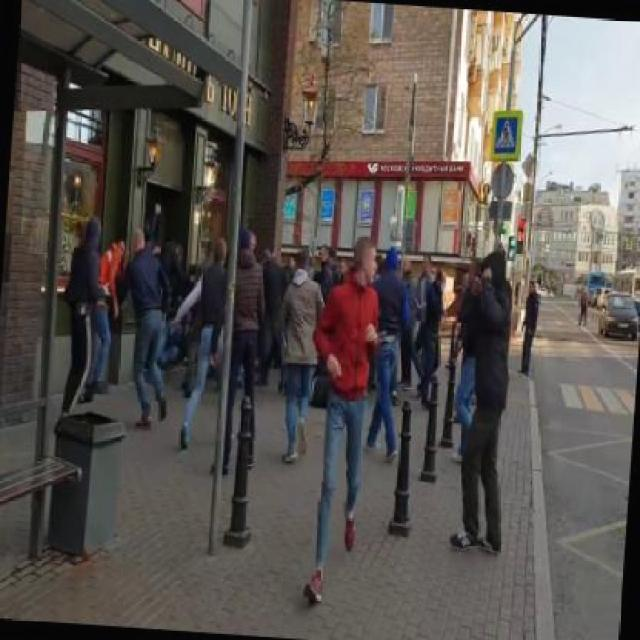non-fight: (293, 228, 381, 597), (452, 252, 522, 558)
